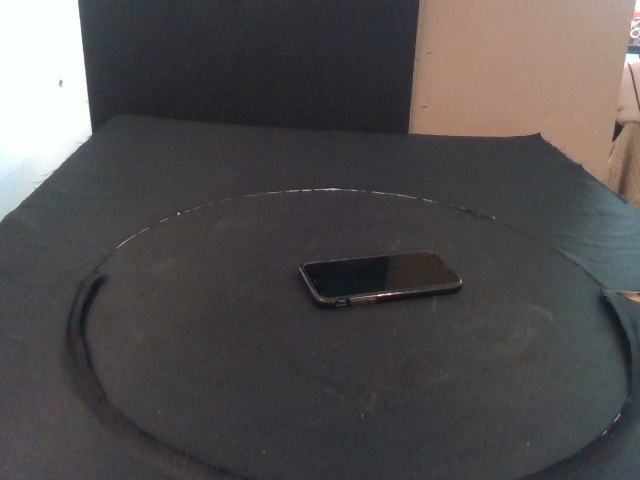phone: (298, 249, 463, 309)
